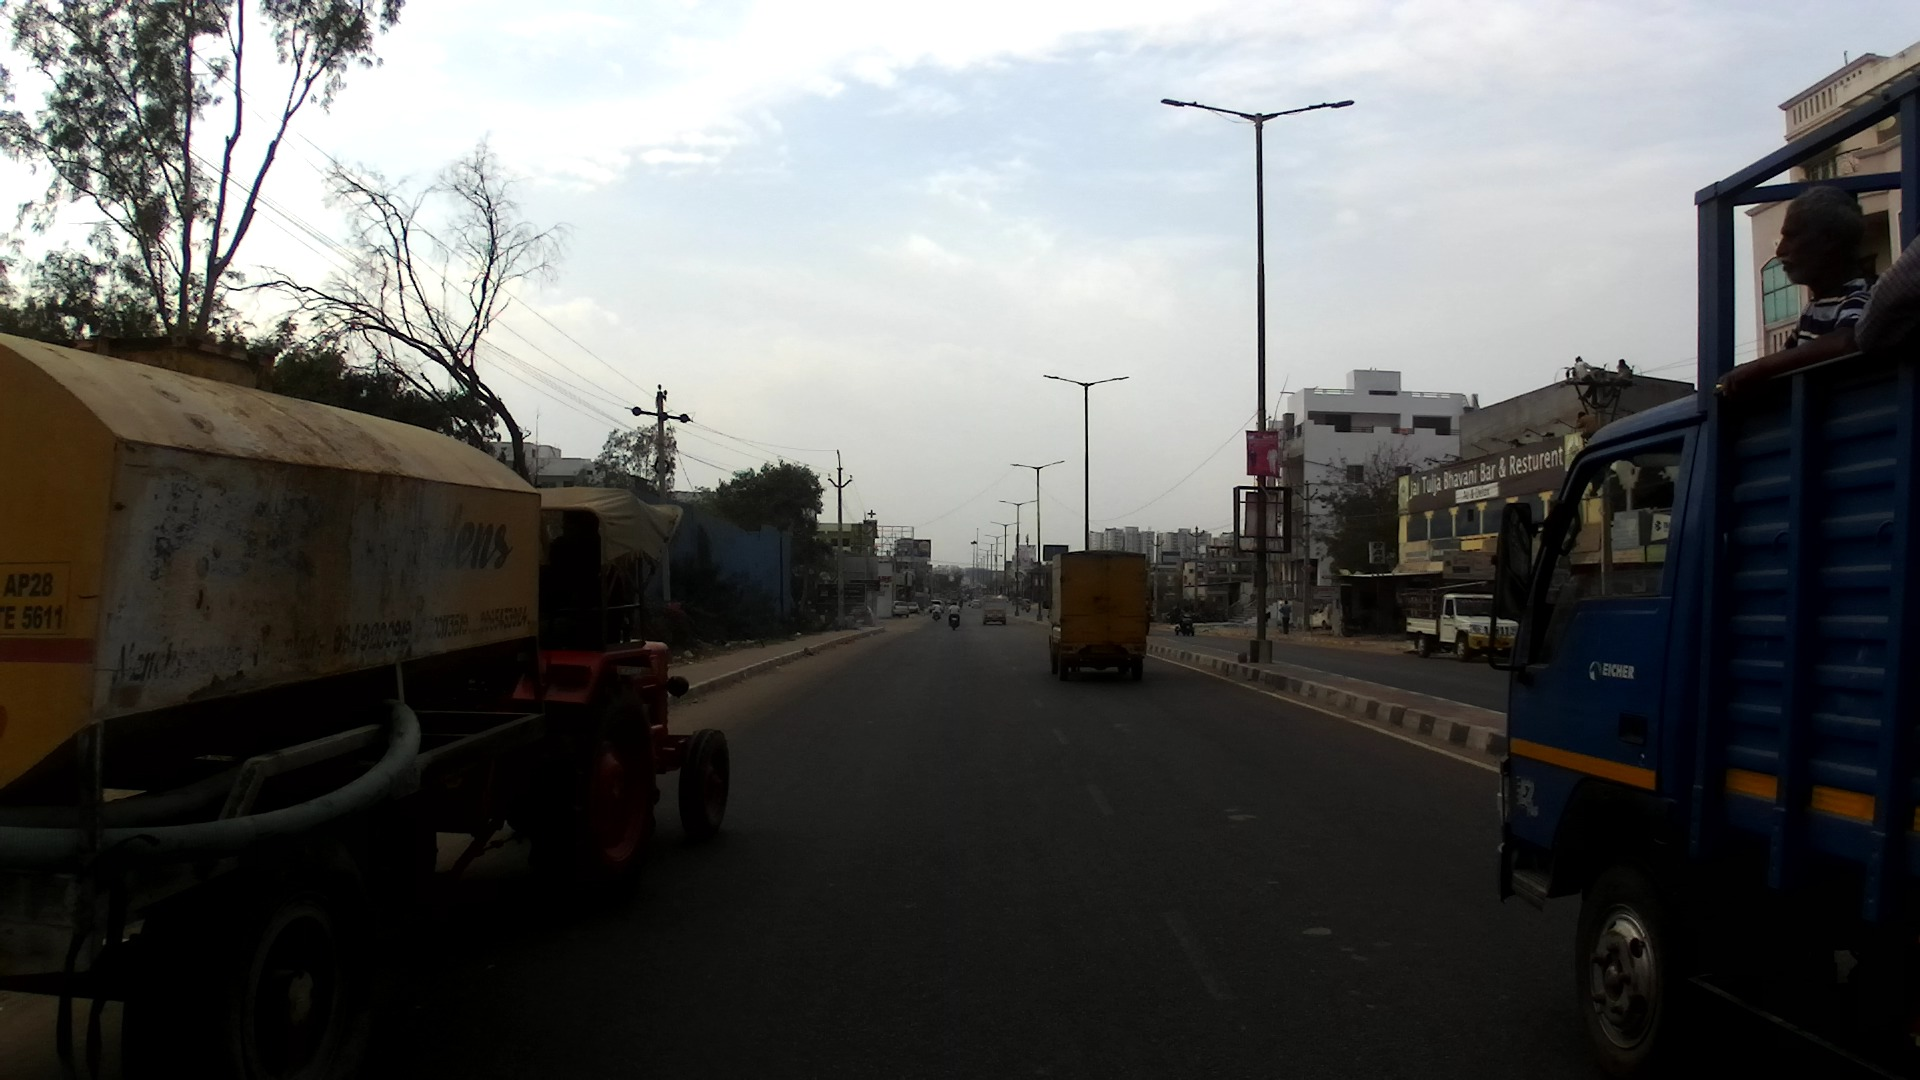car: (1311, 605, 1336, 628), (892, 601, 910, 619), (930, 600, 944, 612), (971, 600, 982, 613), (907, 601, 920, 613)
motorcycle: (1343, 618, 1376, 637), (1175, 614, 1199, 638), (1167, 606, 1181, 624), (948, 610, 960, 629), (931, 611, 943, 622), (1025, 605, 1032, 612), (958, 602, 964, 609)
person: (1605, 358, 1634, 398), (1571, 355, 1597, 398), (1572, 411, 1595, 441), (1277, 598, 1292, 634)
rider: (1711, 188, 1873, 395), (1860, 237, 1920, 352), (948, 601, 961, 626), (932, 601, 942, 617), (1173, 602, 1181, 620), (1024, 599, 1032, 608), (958, 597, 963, 603)
truck: (1496, 77, 1920, 1080), (1042, 549, 1149, 680), (1396, 586, 1518, 664), (981, 596, 1007, 623)
vehicle fallback: (4, 333, 731, 1080), (946, 598, 963, 607), (950, 590, 961, 603), (1019, 597, 1031, 609), (1010, 596, 1023, 606), (962, 593, 973, 601), (1148, 601, 1150, 635)
